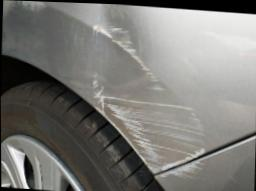Fender: (79, 9, 256, 173)
